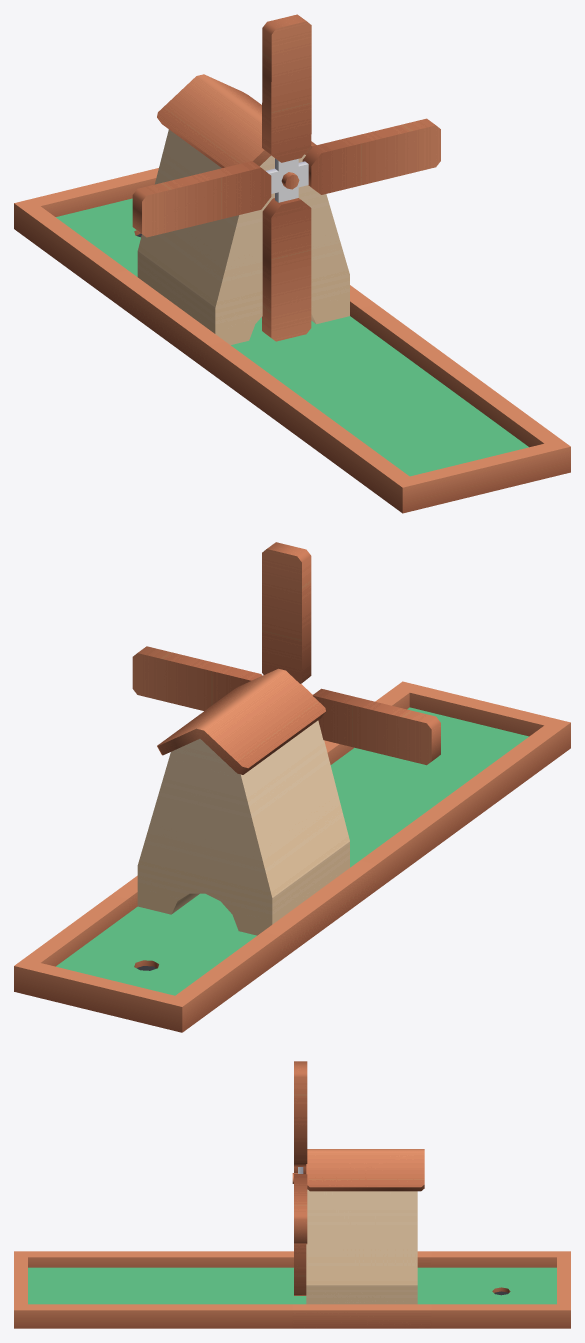
Rendered from course2.glb.
3 views of the same model, one above another, from view 1: azimuth 30°, elevation 25°; view 2: azimuth 150°, elevation 25°; view 3: azimuth 270°, elevation 25° (orthographic). The views are drawn at different scales.
Parts seen in each view (by area): view 1: walls-col, blades-col, floor-col; view 2: walls-col, floor-col, blades-col; view 3: walls-col, floor-col, blades-col.
Boxes of the visible parts, x1,y1,x2,y2 form: walls-col: [14, 74, 570, 513]; blades-col: [132, 14, 440, 341]; floor-col: [56, 198, 528, 476]; walls-col: [14, 668, 570, 1032]; floor-col: [56, 707, 528, 995]; blades-col: [132, 542, 440, 765]; walls-col: [14, 1149, 570, 1328]; floor-col: [28, 1267, 556, 1304]; blades-col: [292, 1061, 307, 1295].
Bounding box in the file's own units: 1.78 × 1.85 × 4.
5 materials, 5 textured.
